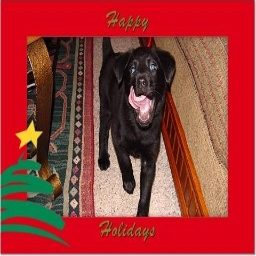dog: (94, 36, 178, 216)
